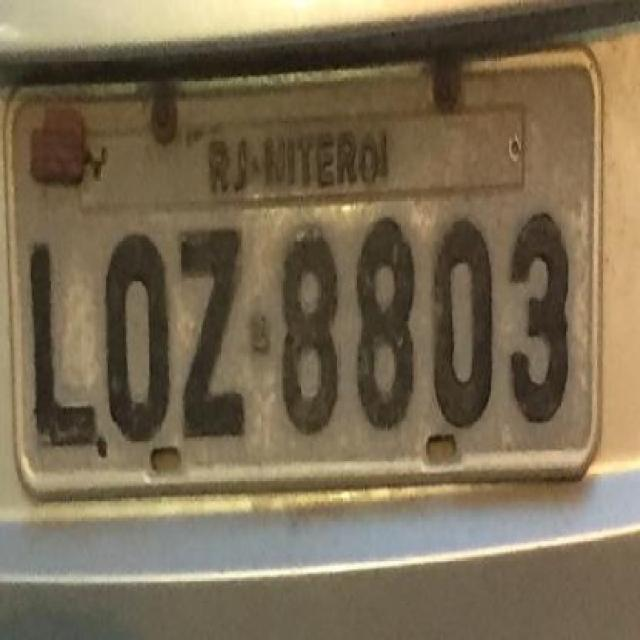old_plate: (5, 31, 619, 508)
